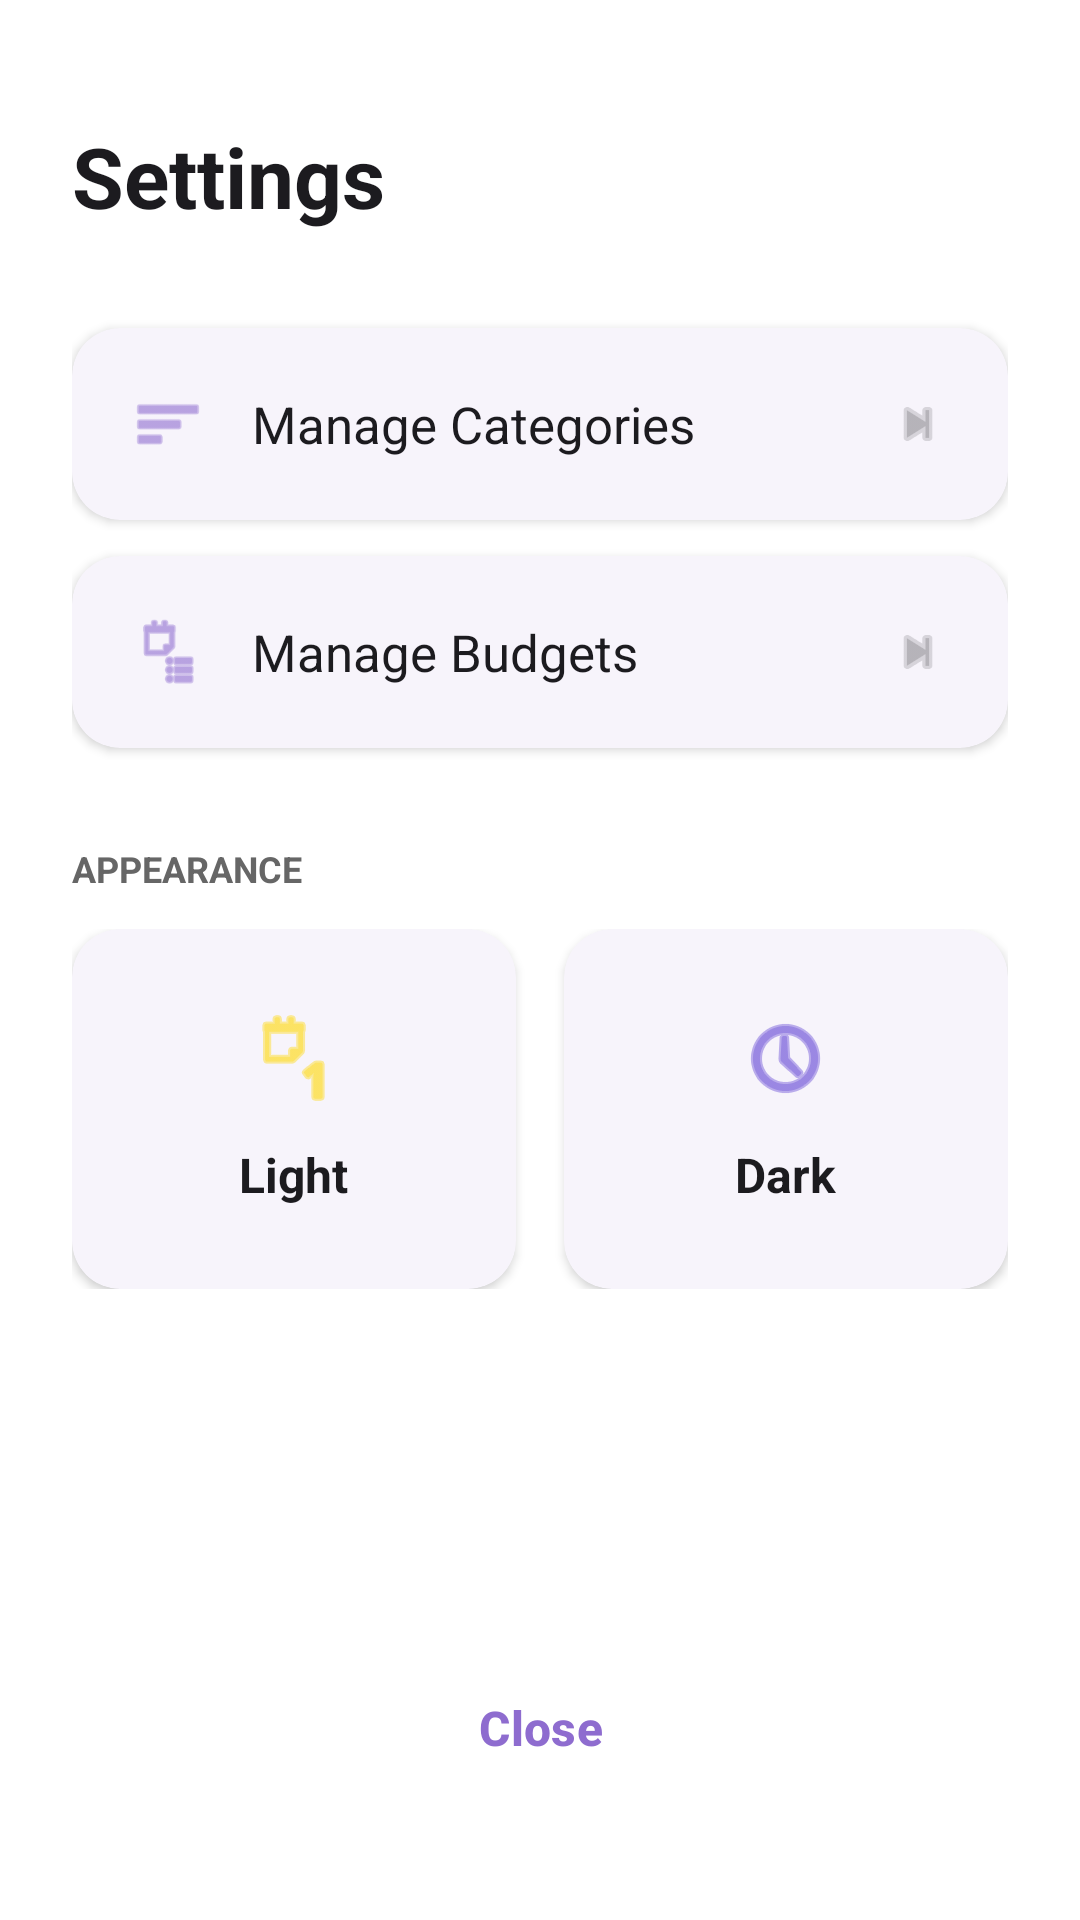

Icon click points for this 1080px x 1920px phone screenshot, format [x,y]:
agenda: [168,652]
day: [293,1058]
next: [918,424], [918,652]
recent history: [785,1058]
sort by size: [168,424]
